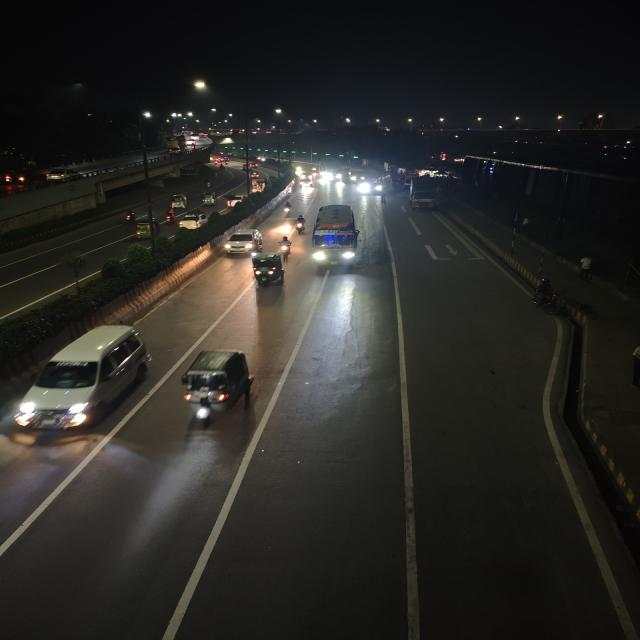bus: (310, 201, 363, 275), (354, 167, 386, 196)
car: (9, 319, 156, 438), (222, 228, 266, 256), (178, 212, 210, 230), (44, 168, 81, 182), (301, 176, 313, 186), (248, 161, 259, 171)
cng: (175, 346, 262, 431), (247, 251, 288, 293), (133, 217, 162, 241), (167, 192, 190, 210), (200, 190, 218, 206), (251, 179, 266, 193)
motorcycle: (531, 278, 565, 316), (277, 234, 294, 256), (293, 214, 307, 236), (121, 208, 138, 225), (281, 200, 294, 218), (202, 179, 213, 189)
pedestrian: (575, 255, 598, 283)
truck: (405, 176, 443, 213)
